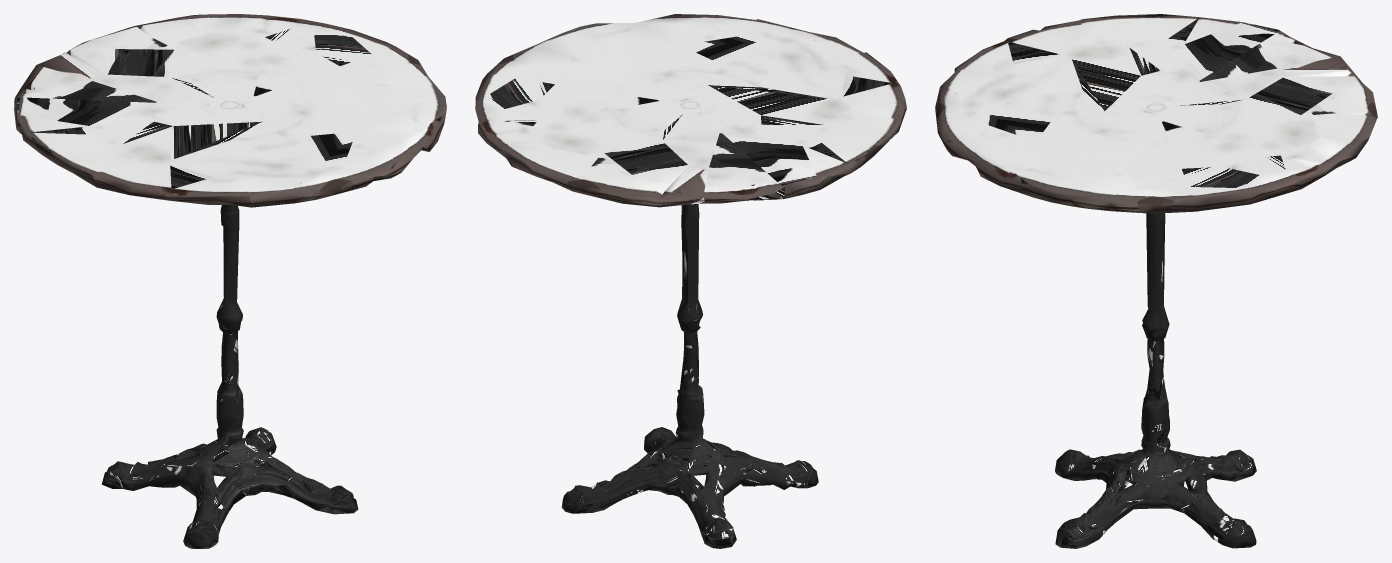
Rendered from bistro-table.glb.
3 views of the same model, side by side, from view 1: azimuth 30°, elevation 25°; view 2: azimuth 150°, elevation 25°; view 3: azimuth 270°, elevation 25° (orthographic). The views are drawn at different scales.
Bounding box in the file's own units: 1.88 × 1.88 × 1.89.
Materials: 1 (1 with a texture image).
